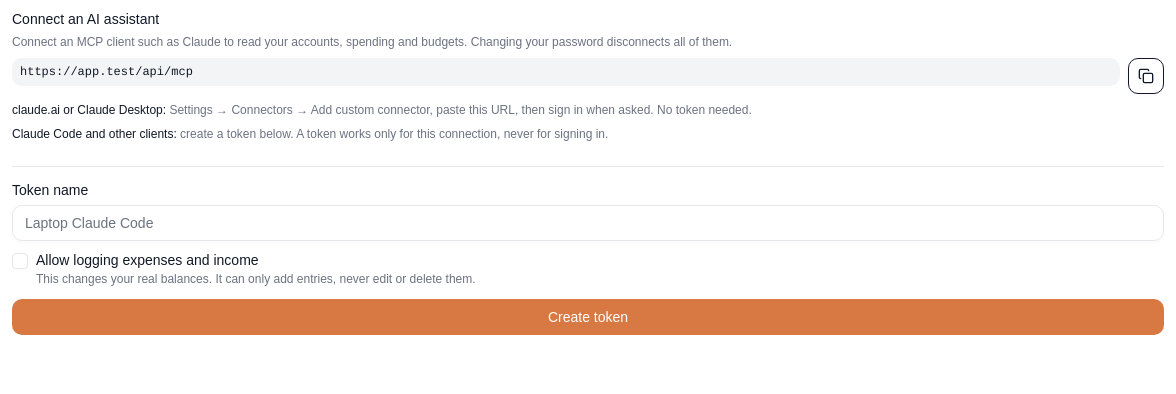
Test case: McpTokenSettings › requires a name
The image size is (1176, 394).
Click the button "Create token". click: click(588, 317)
box: [12, 299, 1164, 335]
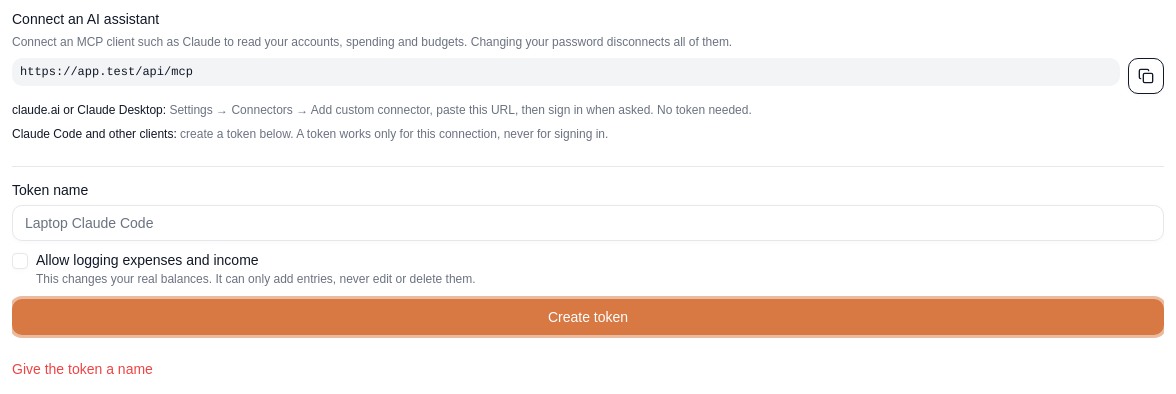
Result: the text "Give the token a name" is shown at [12, 361, 153, 377]
